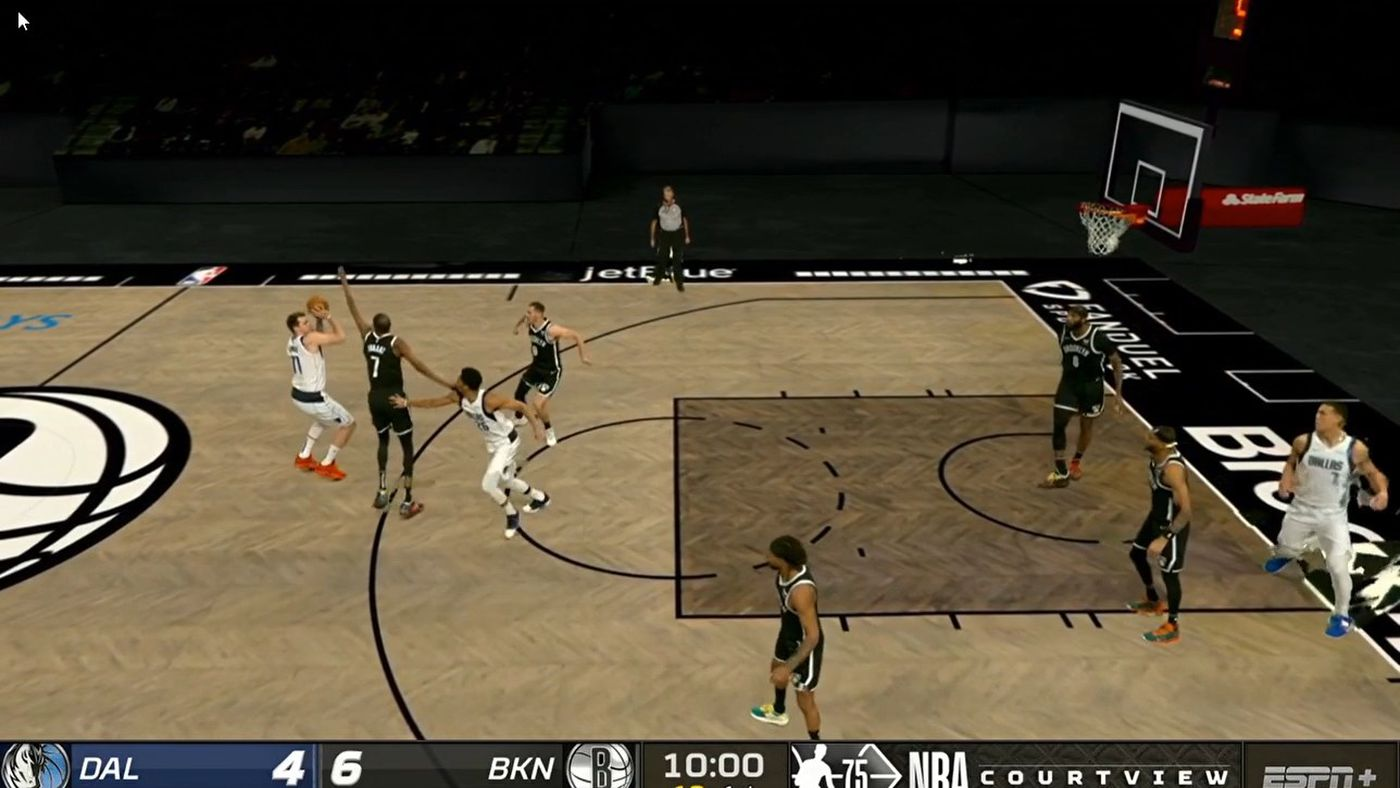basket: (1069, 197, 1145, 268)
player: (396, 353, 560, 547), (1262, 400, 1388, 646), (338, 258, 435, 523), (738, 535, 840, 742), (1034, 283, 1116, 490), (277, 309, 359, 492), (1135, 422, 1201, 645), (508, 290, 571, 436)
referee: (637, 185, 725, 319)
